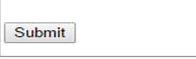button: (2, 22, 79, 45)
